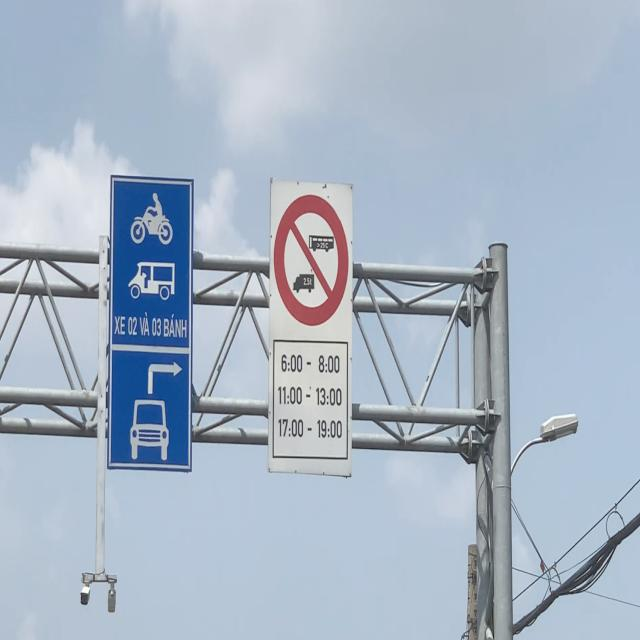Cam con lai: (273, 192, 351, 331)
